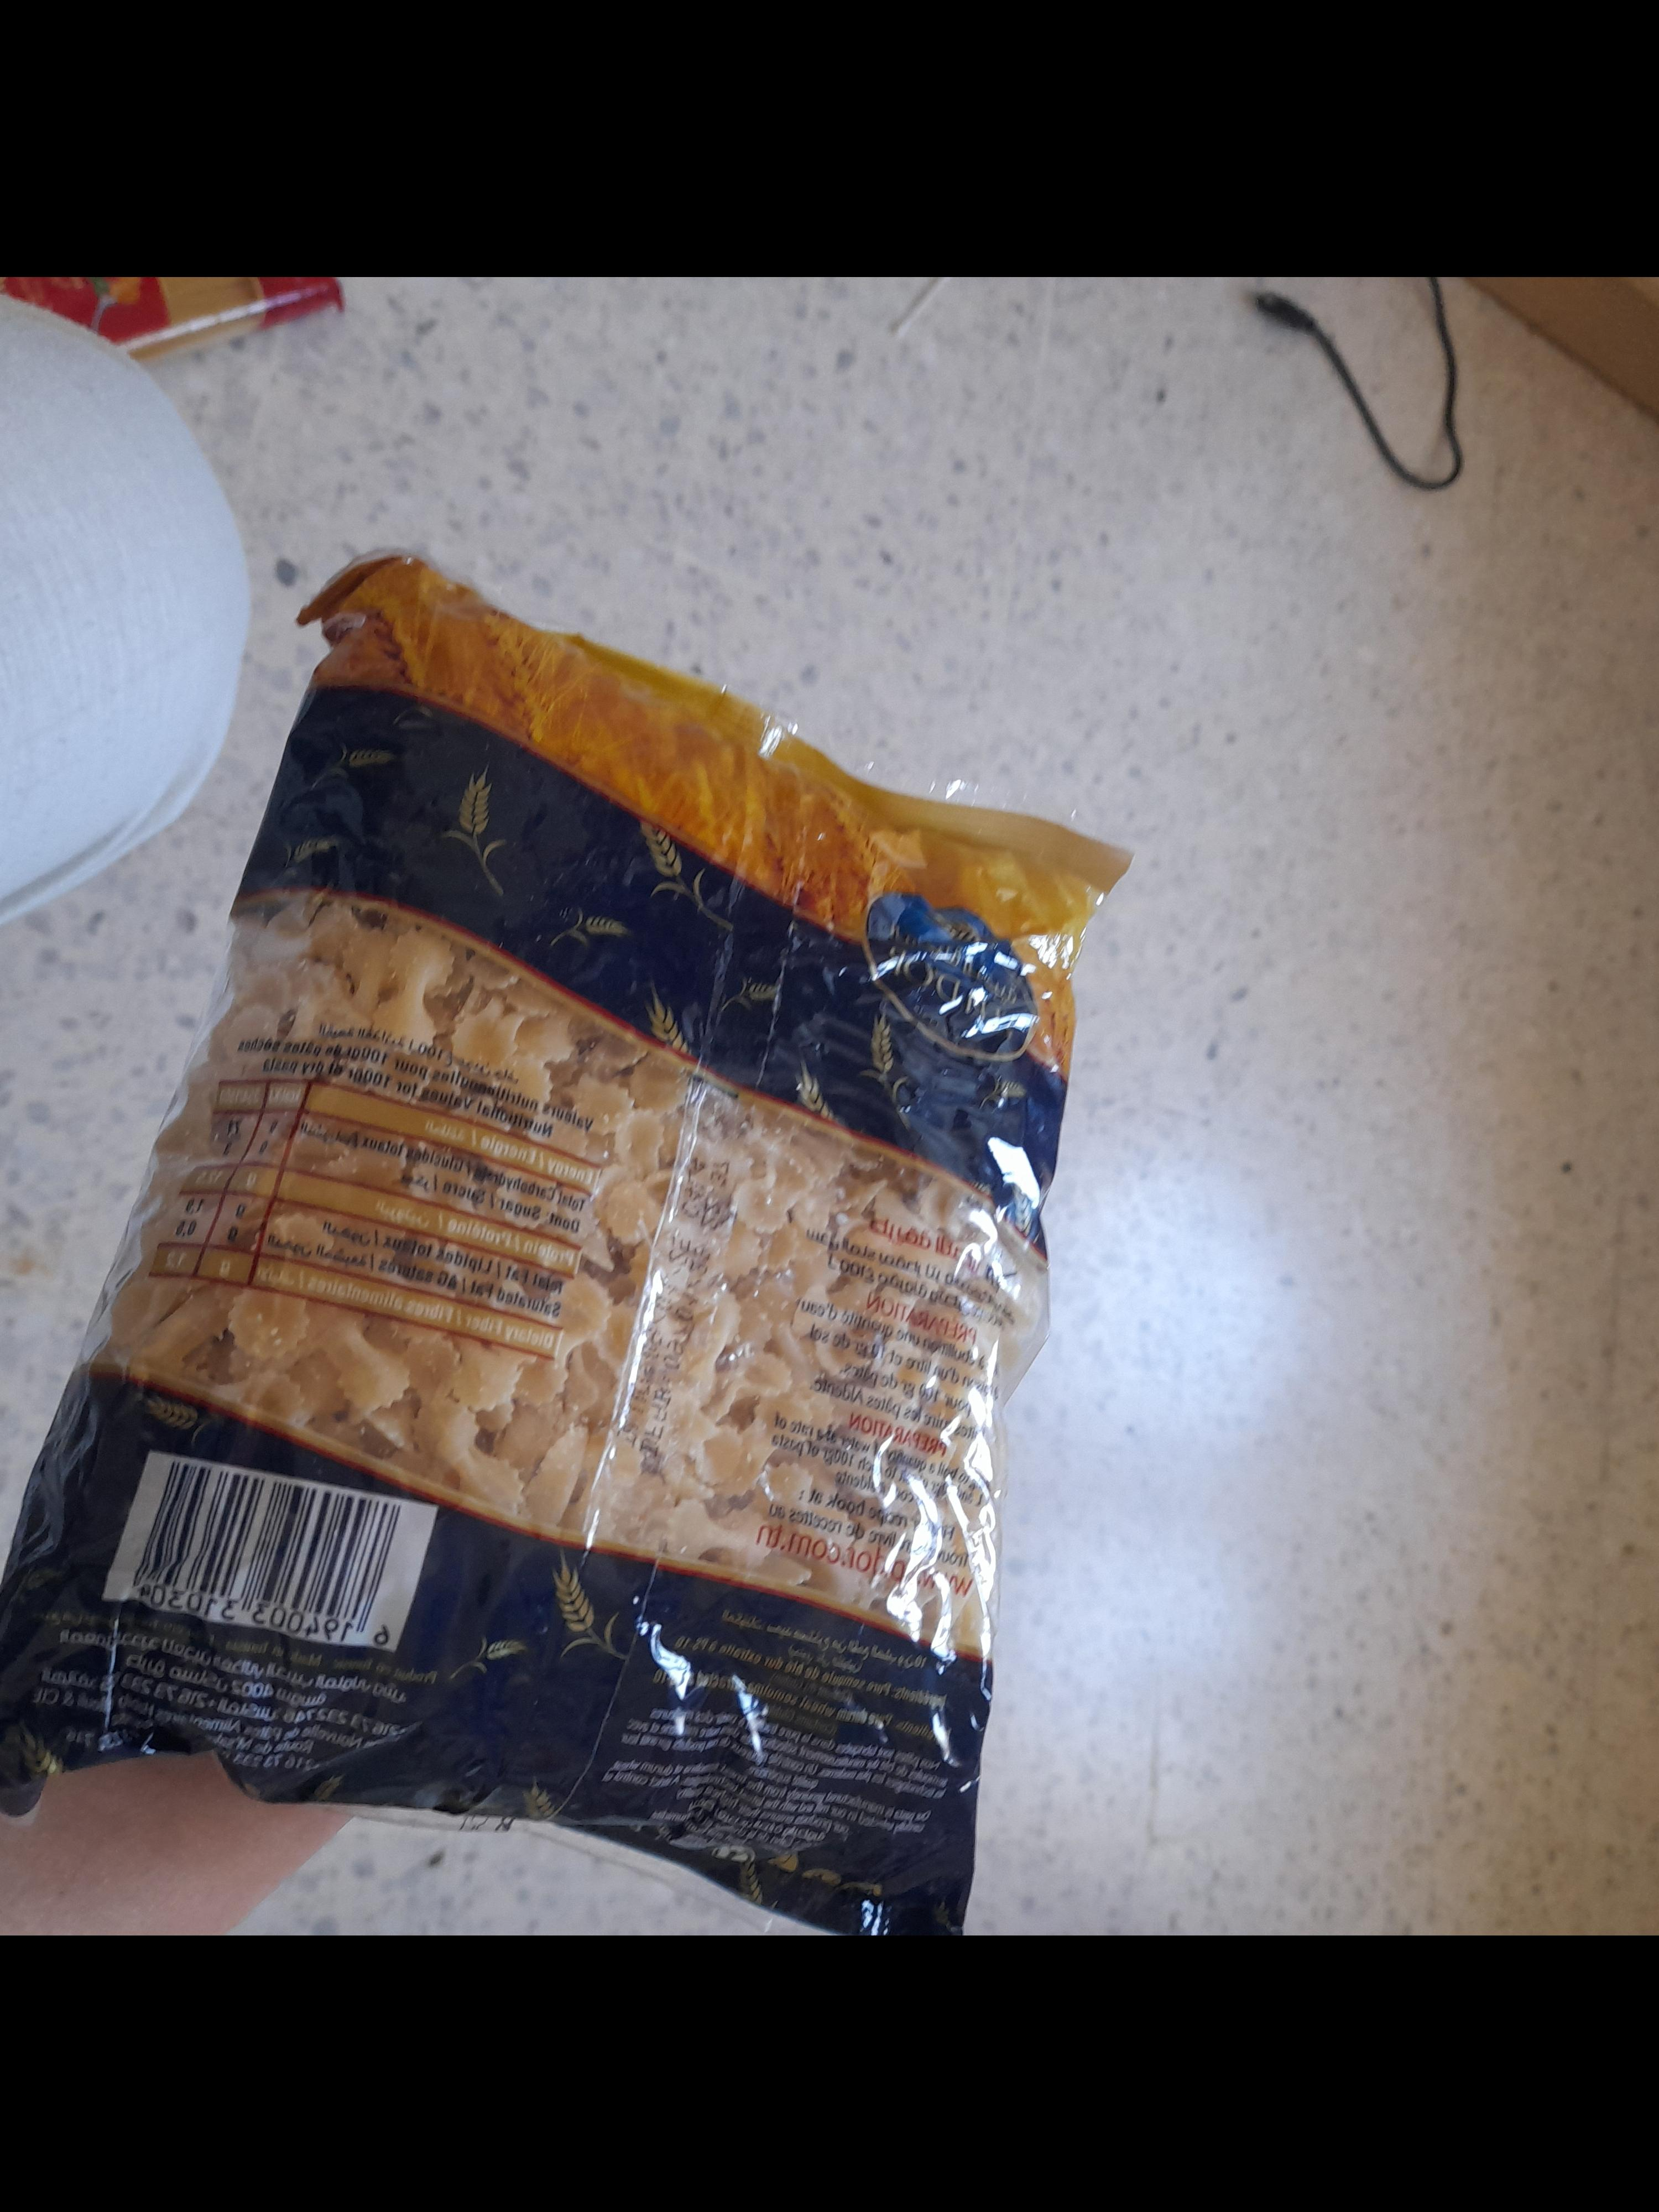Papillon: (1086, 1231, 1525, 1925)
